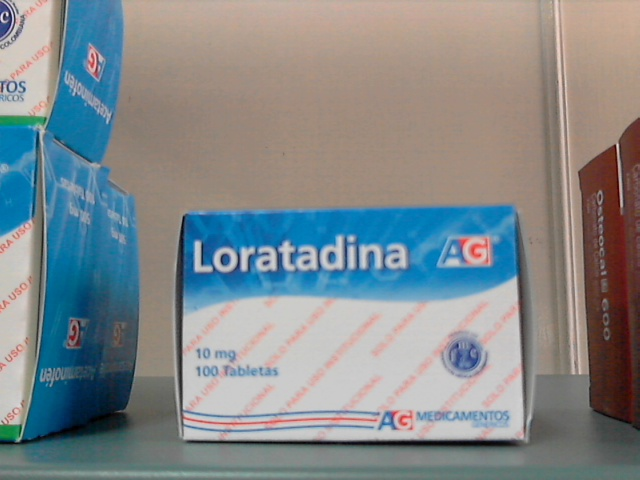AG: (184, 212, 525, 440)
